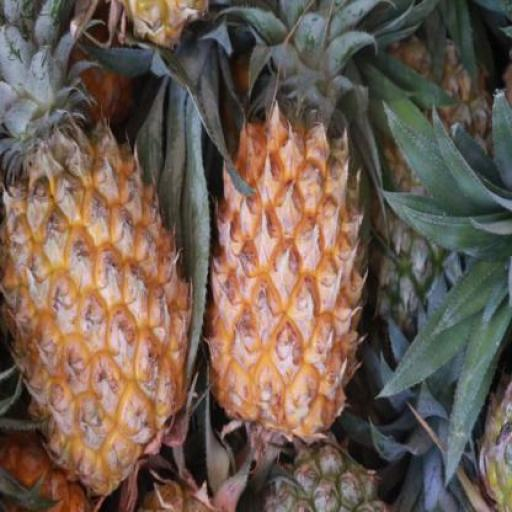Pineapple - v8 v1: (0, 123, 191, 505), (210, 112, 365, 454)
